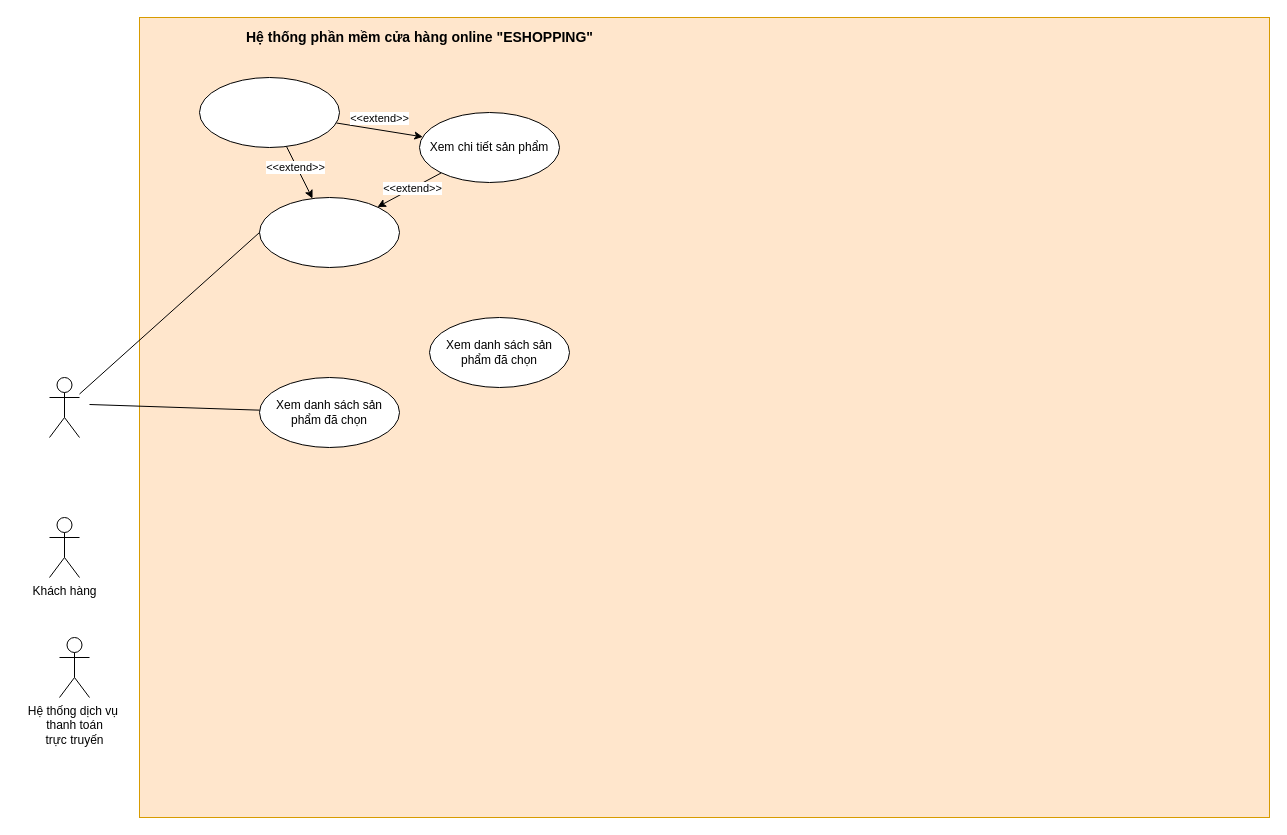
Some shapes in this 1287 by 835 pixel diagram are drawn without their labels. The shapes that lost their labels are listed below. From the top down, each one's centre as x and y in pixels, then its label:
point (269, 112): Đưa sản phẩm vào giỏ hàng hiện tại
point (329, 232): Xem danh sách sản phẩm chưa chọn
point (64, 407): Hệ thống quản lý sản phẩm
